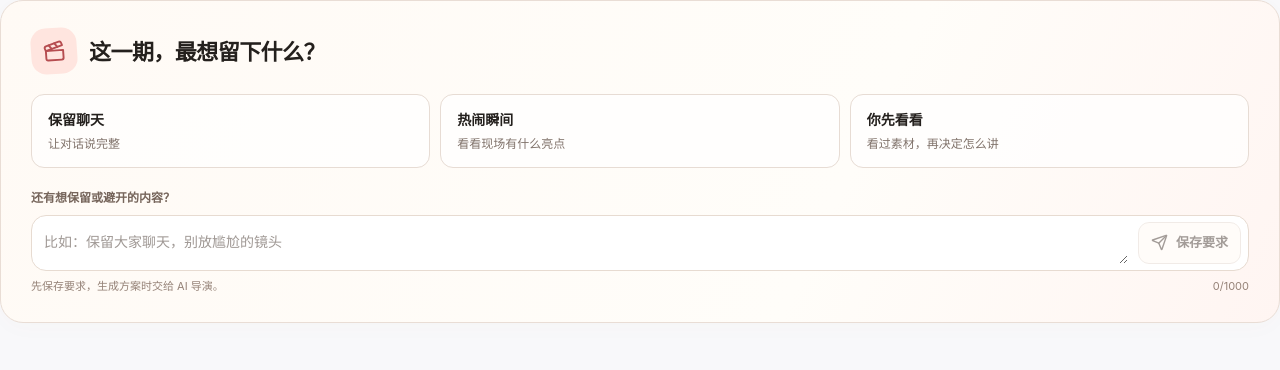
Test: persistent director guide › preserves text when the callback rejects and prevents duplicate requests while saving
The width and height of the screenshot is (1280, 370).
Later steps or results of the test are not shown.
Step 1. Type "完整保留这句话" into the text box → coordinates (586, 243), box [44,222,1128,264]
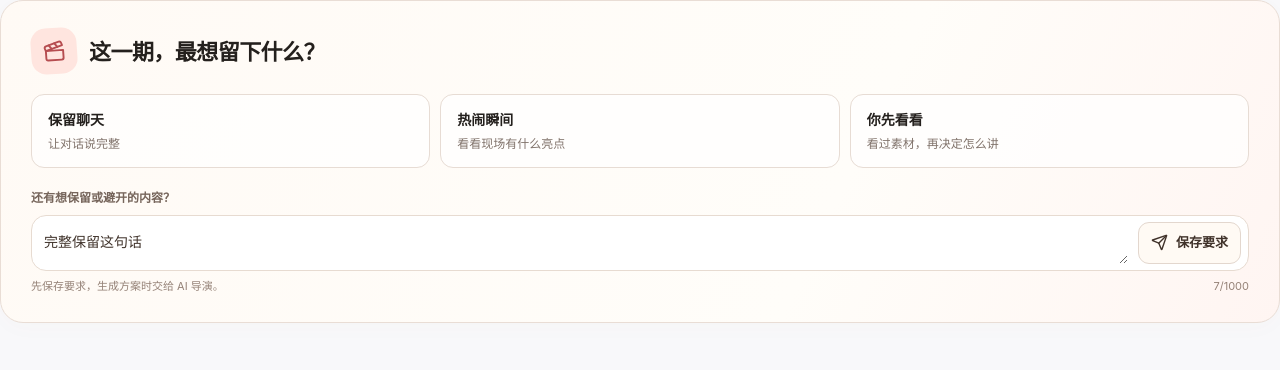
Step 2. Click the button with aria-label "保存导演要求" → coordinates (1190, 243), box [1138,222,1241,264]
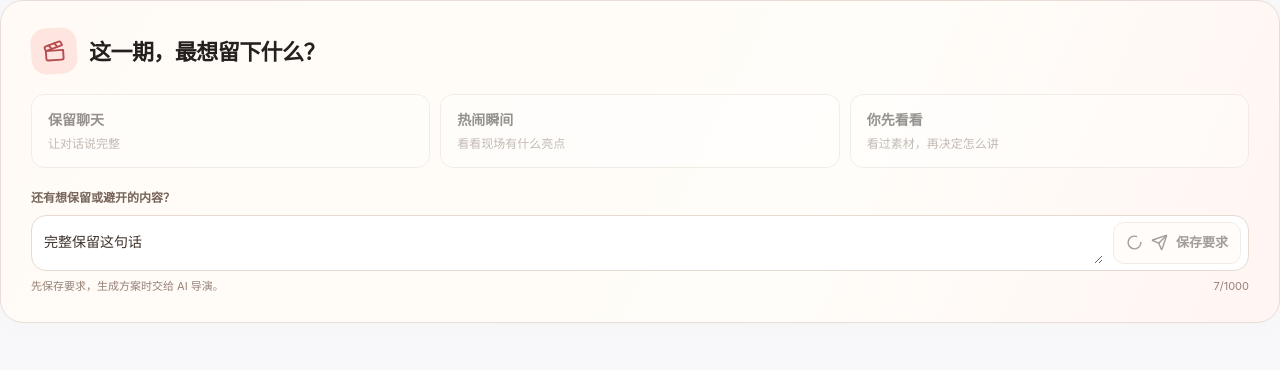
Step 3. Click the button with aria-label "保存导演要求" → coordinates (1177, 243), box [1113,222,1241,264]
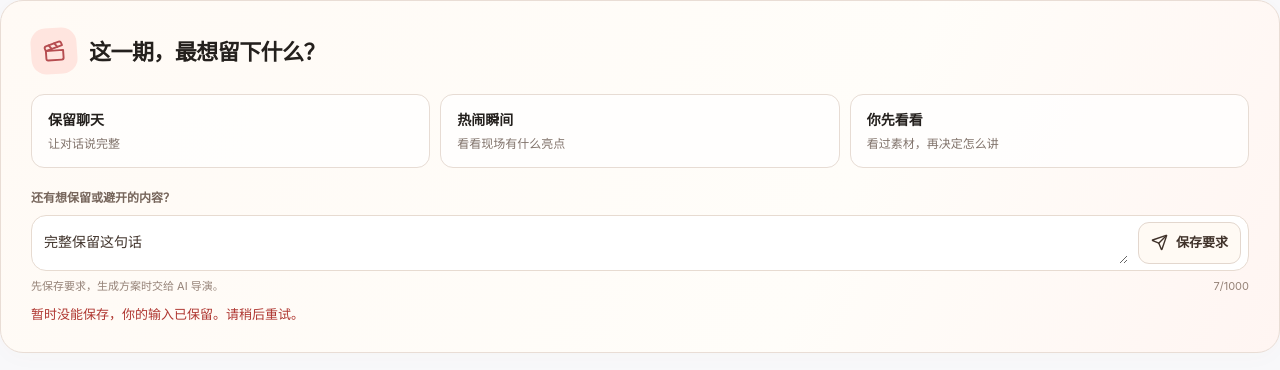
Check: the message shows "输入已保留", box [31,306,304,322]
